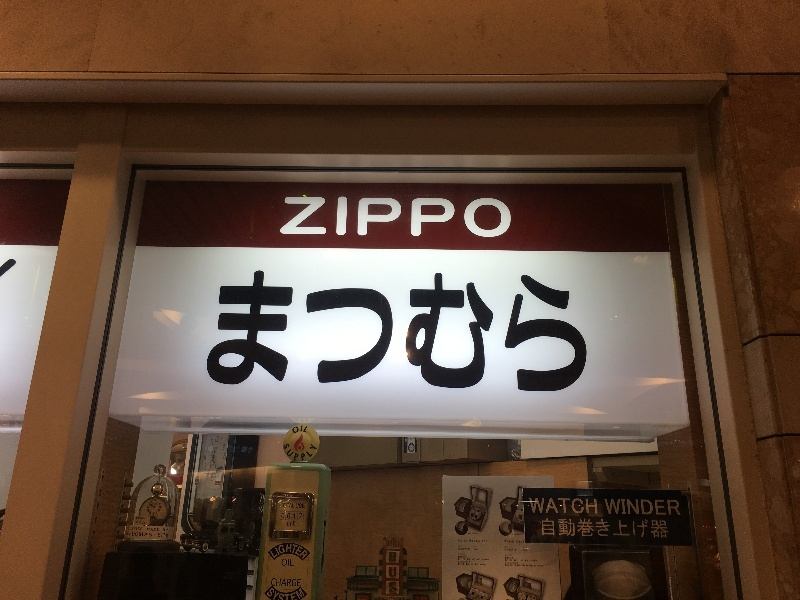text: (225, 268, 240, 392), (241, 268, 256, 392), (257, 268, 272, 392), (273, 268, 288, 392), (289, 268, 304, 392), (305, 268, 320, 392), (321, 268, 336, 392), (337, 268, 352, 392), (353, 268, 368, 392), (369, 268, 384, 392), (385, 268, 400, 392), (401, 268, 416, 392), (417, 268, 432, 392), (433, 268, 448, 392), (449, 268, 464, 392), (465, 268, 480, 392), (481, 268, 496, 392), (497, 268, 512, 392), (513, 268, 528, 392), (529, 268, 544, 392), (545, 268, 560, 392), (561, 268, 576, 392), (577, 268, 589, 392), (289, 195, 304, 238), (305, 195, 320, 238), (321, 195, 336, 238), (337, 195, 352, 238), (353, 195, 368, 238), (369, 195, 384, 238), (385, 195, 400, 238), (401, 195, 416, 238), (417, 195, 432, 238), (433, 195, 448, 238), (449, 195, 464, 238), (465, 195, 480, 238), (481, 195, 496, 238), (497, 195, 512, 238), (389, 553, 400, 595), (545, 519, 560, 539), (561, 519, 576, 539), (577, 519, 592, 539), (593, 519, 608, 539), (609, 519, 624, 539), (625, 519, 640, 539), (641, 519, 656, 539), (657, 519, 671, 539), (273, 543, 288, 561), (289, 543, 304, 561), (529, 499, 544, 516), (545, 499, 560, 516), (561, 499, 576, 516), (577, 499, 592, 516), (609, 500, 624, 517), (625, 500, 640, 517), (641, 500, 656, 517), (657, 500, 672, 517), (289, 445, 304, 461), (273, 586, 288, 600), (289, 586, 304, 600), (305, 445, 318, 461), (673, 500, 682, 517), (305, 543, 313, 561), (273, 578, 288, 587), (266, 543, 272, 561), (289, 578, 301, 587), (289, 513, 303, 520), (129, 531, 144, 537), (286, 195, 288, 238), (593, 499, 598, 516), (212, 472, 224, 479), (211, 439, 224, 445), (293, 426, 304, 433), (267, 586, 272, 600), (604, 500, 608, 517), (405, 438, 416, 444), (147, 527, 160, 532), (284, 445, 288, 461), (541, 519, 544, 539), (216, 436, 224, 443), (131, 527, 144, 531), (289, 521, 296, 528), (145, 531, 153, 537), (164, 528, 176, 532), (296, 503, 304, 509), (282, 559, 288, 567), (161, 533, 170, 538), (465, 540, 480, 543), (465, 559, 480, 562), (465, 564, 480, 567), (513, 560, 528, 563), (513, 565, 528, 568), (282, 513, 288, 520), (529, 565, 543, 568), (289, 559, 294, 567), (513, 541, 526, 544), (135, 521, 144, 525), (281, 503, 288, 508), (136, 516, 144, 520), (289, 503, 295, 508), (204, 455, 208, 462), (481, 559, 490, 562), (529, 560, 538, 563), (468, 533, 480, 535), (504, 541, 512, 544), (481, 540, 488, 543), (505, 560, 512, 563), (505, 565, 512, 568), (305, 426, 308, 433), (205, 464, 208, 471), (221, 438, 224, 445), (513, 534, 523, 536), (458, 540, 464, 543), (474, 546, 480, 549), (458, 556, 464, 559), (458, 559, 464, 562), (458, 564, 464, 567), (481, 564, 486, 567), (286, 521, 288, 528), (305, 586, 306, 600), (457, 549, 464, 551), (505, 547, 512, 549), (505, 550, 512, 552), (505, 563, 512, 565), (126, 531, 128, 537), (458, 546, 464, 548), (465, 549, 471, 551), (474, 549, 480, 551), (458, 562, 464, 564), (465, 562, 471, 564), (513, 550, 518, 552), (523, 550, 528, 552), (513, 563, 518, 565), (222, 463, 224, 468), (223, 443, 224, 451), (505, 558, 512, 559), (225, 453, 226, 460), (207, 446, 208, 452), (209, 446, 210, 452), (209, 470, 210, 476), (159, 533, 160, 538), (145, 516, 146, 520), (145, 521, 146, 525), (465, 556, 466, 559), (513, 558, 514, 559)
